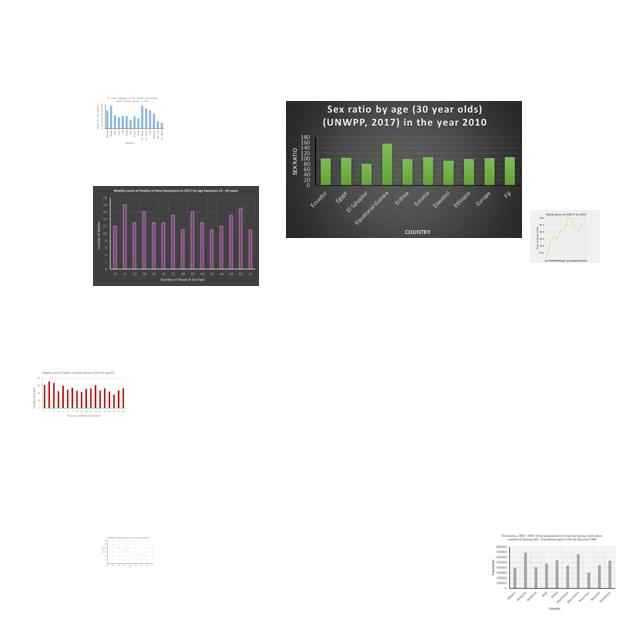Graph: (286, 101, 522, 238), (93, 186, 259, 286), (485, 533, 618, 611), (32, 370, 127, 418), (530, 210, 600, 263), (95, 96, 165, 146), (101, 536, 155, 569)
